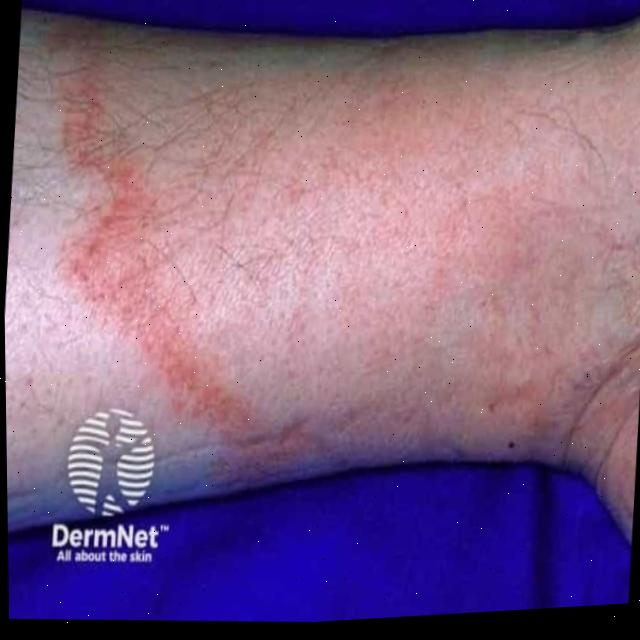Eczema: (52, 50, 640, 487)
